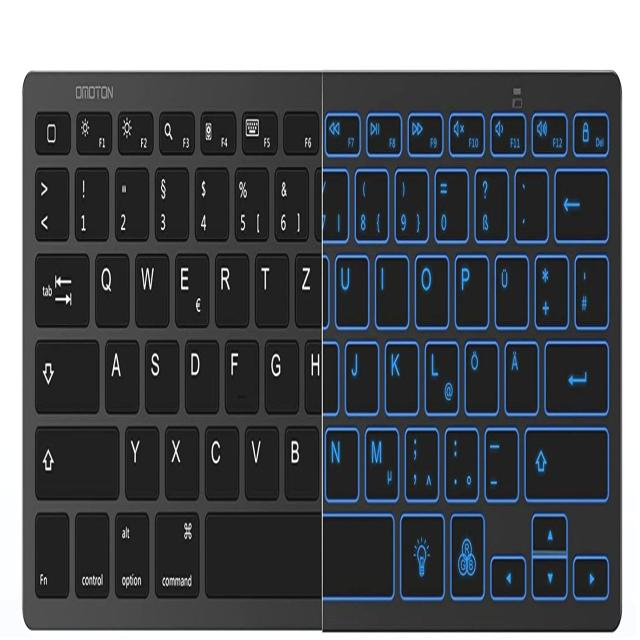0: (432, 164, 467, 239)
1: (73, 161, 108, 238)
2: (112, 161, 148, 237)
3: (152, 162, 188, 238)
4: (193, 161, 227, 237)
5: (231, 161, 267, 238)
6: (272, 160, 308, 238)
7: (317, 164, 348, 240)
8: (353, 164, 387, 239)
9: (392, 165, 428, 239)
a: (103, 334, 138, 410)
accent: (512, 162, 546, 237)
ae: (503, 336, 537, 411)
alt-left: (112, 506, 150, 597)
b: (282, 420, 318, 497)
c: (202, 420, 238, 497)
comma: (401, 422, 437, 498)
d: (182, 333, 218, 410)
del: (552, 163, 607, 238)
e: (172, 248, 208, 325)
enter: (542, 336, 608, 411)
f: (222, 334, 257, 410)
g: (262, 333, 297, 410)
h: (305, 339, 339, 412)
hash: (573, 250, 607, 325)
i: (373, 250, 407, 325)
j: (343, 336, 377, 411)
k: (383, 335, 417, 411)
keyboard: (19, 60, 624, 627)
l: (423, 337, 457, 412)
less: (33, 161, 68, 238)
m: (362, 422, 398, 499)
minus: (482, 423, 518, 498)
n: (323, 422, 358, 498)
o: (412, 249, 448, 325)
oe: (463, 336, 497, 411)
p: (452, 249, 488, 325)
plus: (532, 249, 567, 325)
point: (442, 422, 477, 498)
q: (92, 247, 128, 324)
r: (212, 248, 248, 325)
s: (142, 334, 178, 410)
shift-left: (32, 418, 118, 496)
shift-lock: (32, 333, 98, 410)
shift-right: (523, 422, 608, 498)
space: (204, 509, 395, 597)
ss: (472, 164, 506, 238)
strg-left: (73, 507, 109, 597)
t: (253, 247, 287, 323)
tab: (32, 247, 90, 325)
u: (333, 249, 367, 326)
ue: (492, 249, 527, 326)
v: (242, 420, 278, 497)
w: (133, 246, 168, 324)
x: (163, 420, 199, 496)
y: (122, 421, 158, 496)
z: (292, 246, 326, 324)
